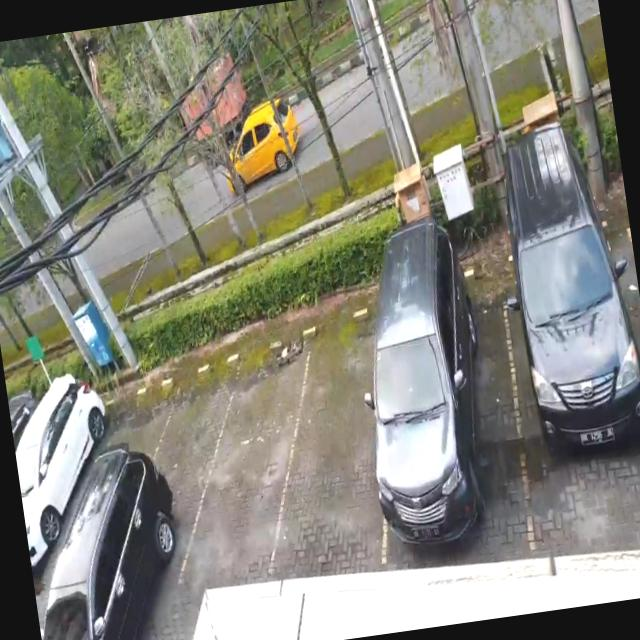car: (350, 266, 540, 568), (490, 206, 640, 551)
free: (260, 316, 394, 580), (192, 342, 318, 586), (124, 371, 229, 596)
